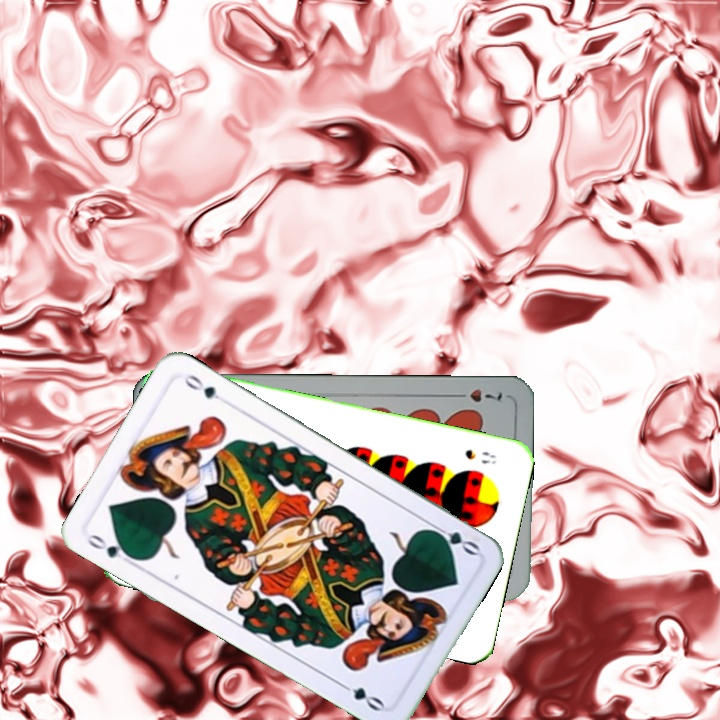GO: (424, 519, 482, 558), (82, 530, 139, 568)
H7: (448, 385, 504, 405)
S8: (461, 445, 499, 467)
